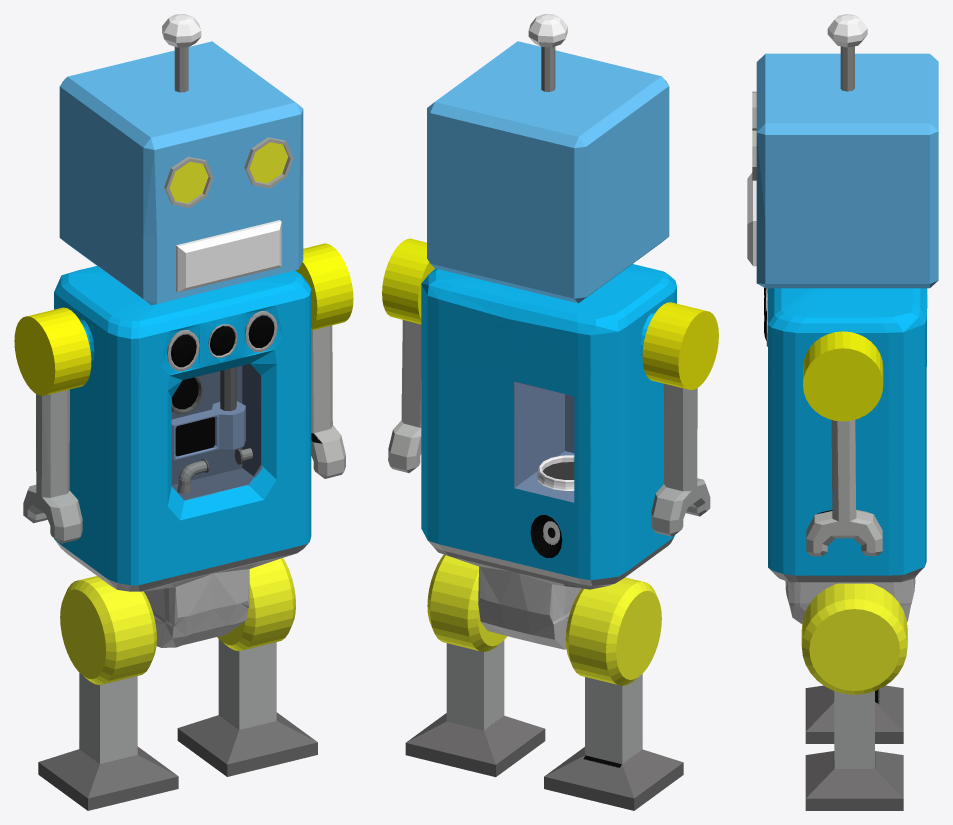
The model's file is algolab-robot.glb.
3 views of the same model, side by side, from view 1: azimuth 30°, elevation 25°; view 2: azimuth 150°, elevation 25°; view 3: azimuth 270°, elevation 25° (orthographic).
Visible parts, largest first — view 1: torso.001, cabeza.001, pierna.R.001, pierna.L.001, Brazo.R.001, Brazo.L.001; view 2: torso.001, cabeza.001, pierna.R.001, pierna.L.001, Brazo.R.001, Brazo.L.001; view 3: cabeza.001, torso.001, pierna.L.001, Brazo.L.001, pierna.R.001.
Part boxes in pixels (x1,y1,x2,y2): torso.001: [54, 266, 311, 647]; cabeza.001: [59, 14, 303, 305]; pierna.R.001: [38, 576, 178, 810]; pierna.L.001: [177, 558, 317, 776]; Brazo.R.001: [14, 307, 91, 543]; Brazo.L.001: [296, 243, 353, 478]; torso.001: [421, 264, 676, 649]; cabeza.001: [427, 14, 669, 303]; pierna.R.001: [544, 577, 683, 810]; pierna.L.001: [405, 554, 545, 777]; Brazo.R.001: [642, 302, 718, 536]; Brazo.L.001: [382, 238, 434, 473]; cabeza.001: [747, 14, 938, 288]; torso.001: [764, 287, 927, 623]; pierna.L.001: [801, 583, 907, 810]; Brazo.L.001: [803, 331, 883, 556]; pierna.R.001: [805, 685, 903, 743].
Bounding box in the file's own units: 2 × 4.79 × 1.13.
Materials: 6 (6 with a texture image).
